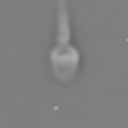normal: (48, 1, 78, 43)
